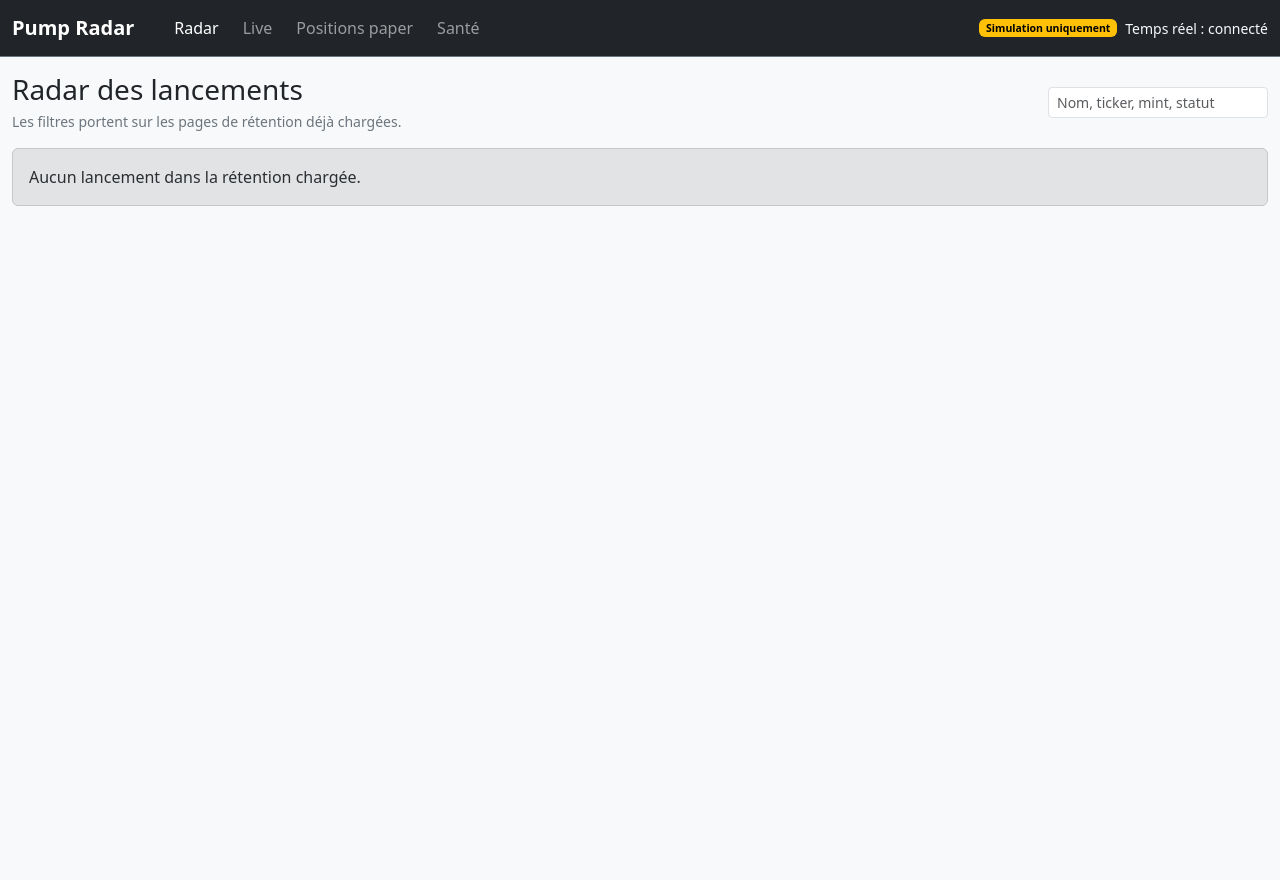
Test case: read-only operator shell › navigates between public views and keeps the safety/status labels visible
Expected: the text "Simulation uniquement" is shown, [979,19,1117,37]
Expected: the text "Temps réel : connecté" is shown, [1125,18,1268,38]
Click the link "Positions paper": point(355, 28) [296,17,413,39]
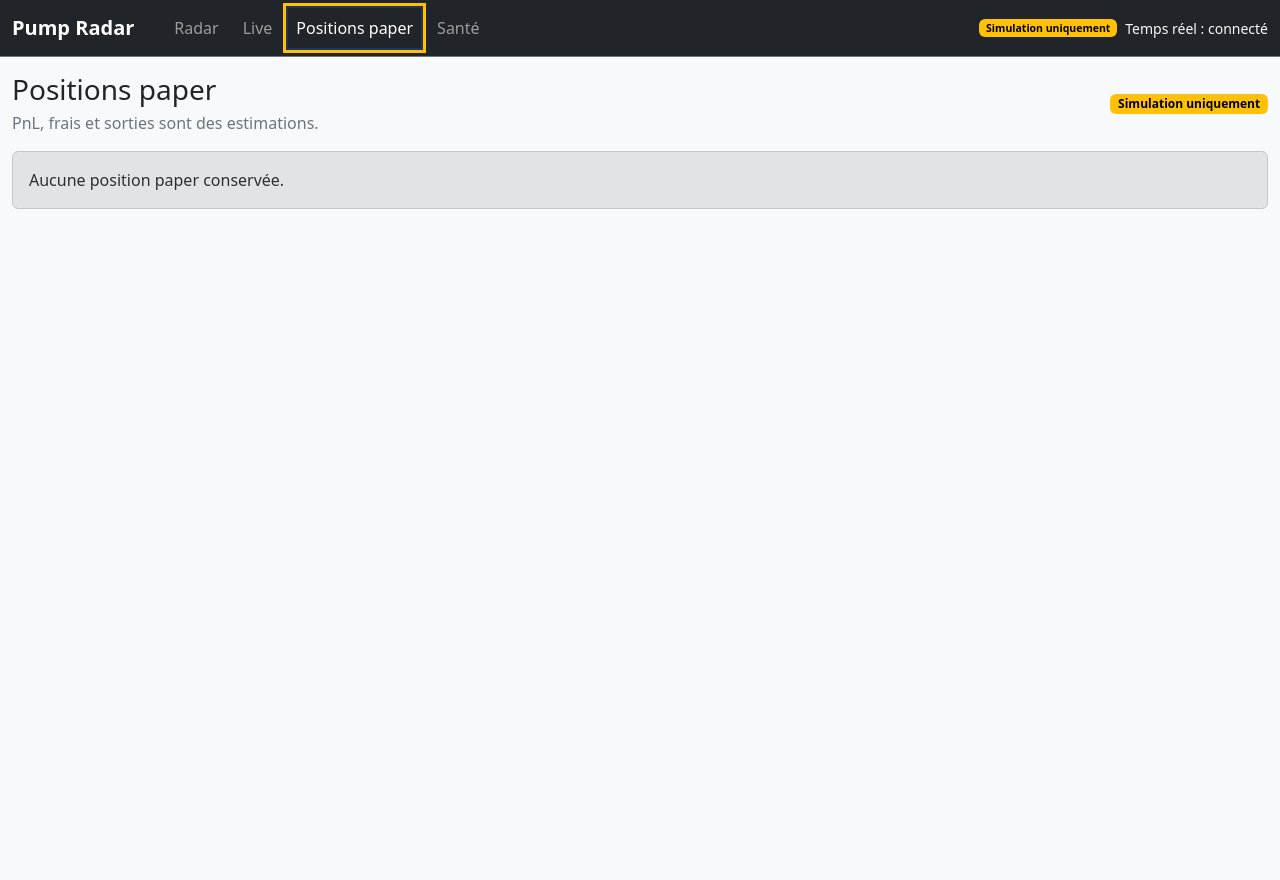
Expected: the heading "Positions paper" is shown, [12,70,216,108]
Click the link "Santé": point(458, 28) [437,17,480,39]
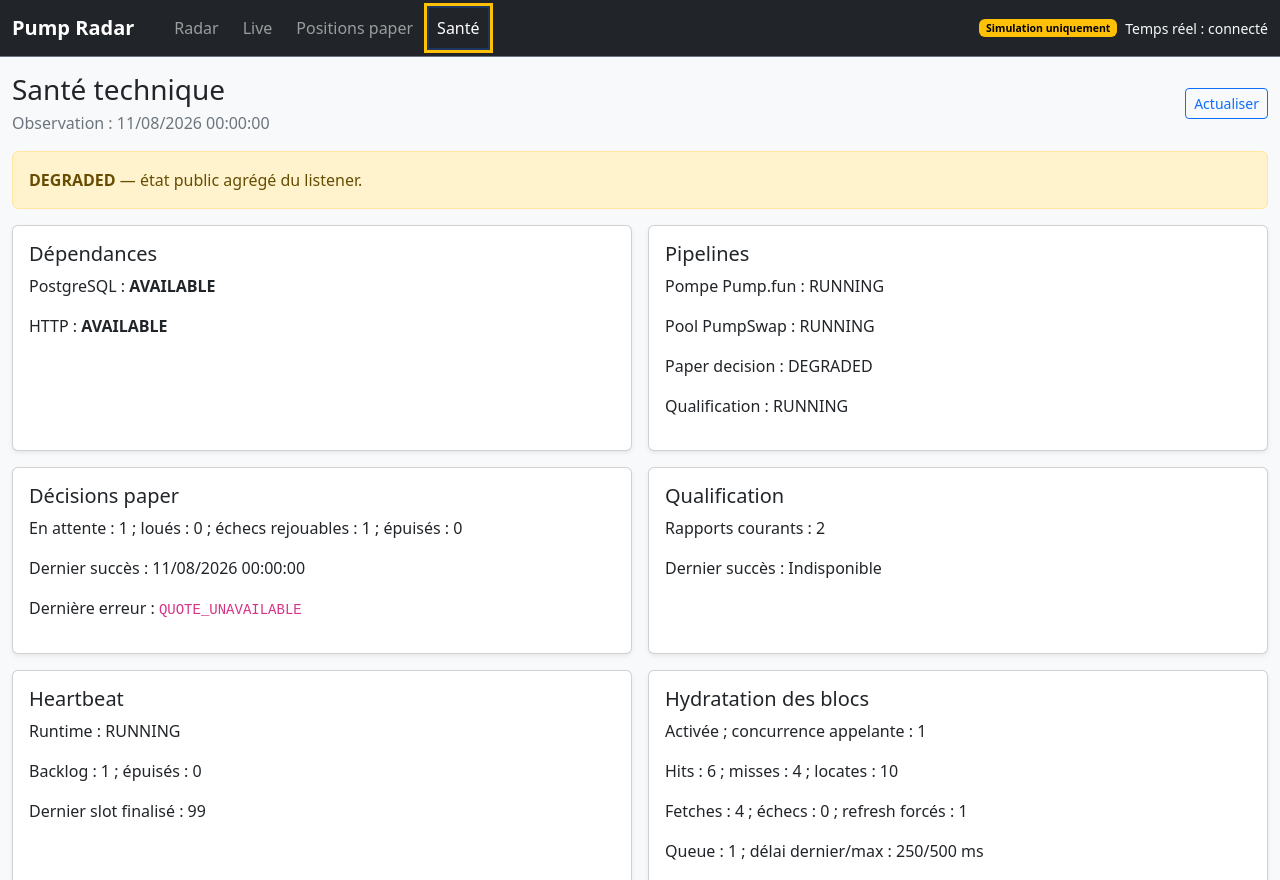
Expected: the heading "Santé technique" is shown, [12,70,225,108]
Click the link "Radar": point(196, 28) [174,17,219,39]
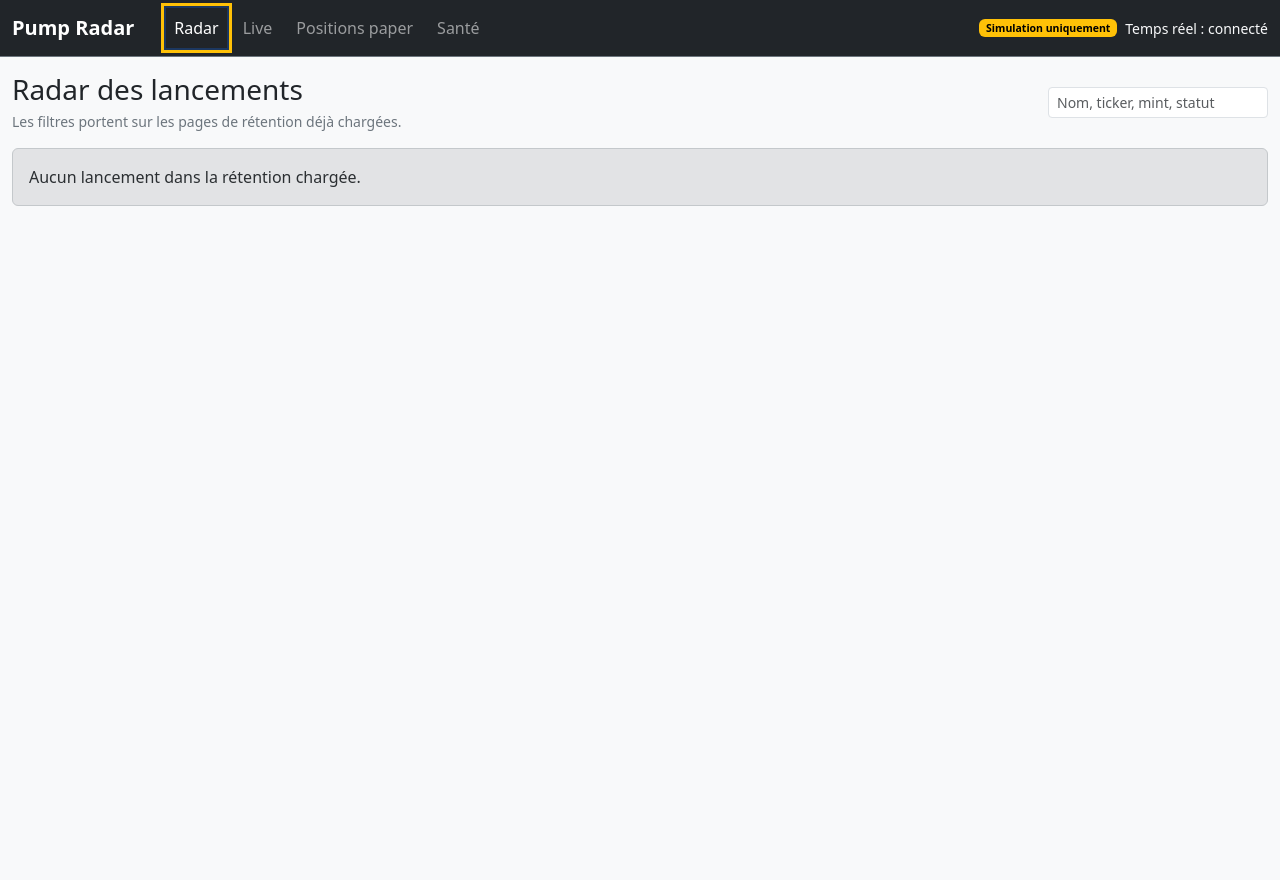
Expected: the heading "Radar des lancements" is shown, [12,70,303,108]
